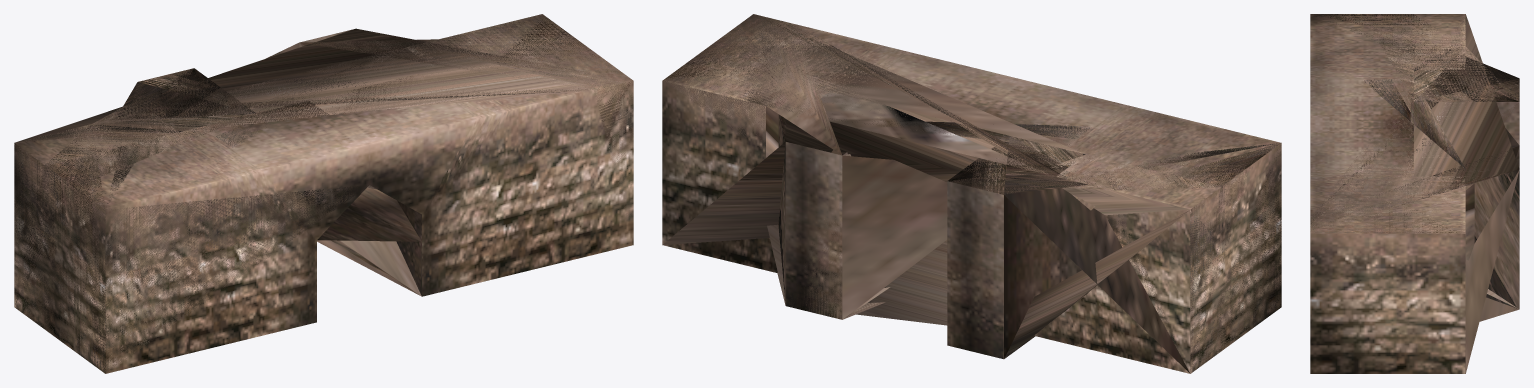
The model's file is stbr15.dae.
3 renders of one model, left to right at view 1: azimuth 30°, elevation 25°; view 2: azimuth 150°, elevation 25°; view 3: azimuth 270°, elevation 25°, orthographic. The views are drawn at different scales.
Parts seen in each view (by area): view 1: base, lever, holder, door; view 2: base, holder, lever, door; view 3: base, lever, door, holder.
Part boxes in pixels (x1,y1,x2,y2): base: [14, 14, 633, 373]; lever: [14, 28, 630, 372]; holder: [14, 14, 633, 372]; door: [45, 43, 625, 372]; base: [662, 14, 1281, 373]; holder: [663, 14, 1281, 372]; lever: [663, 15, 1280, 369]; door: [756, 15, 1281, 372]; base: [1310, 14, 1519, 373]; lever: [1310, 14, 1519, 308]; door: [1310, 14, 1519, 321]; holder: [1310, 16, 1519, 373].
Bounding box in the file's own units: 10.03 × 4.04 × 2.98.
Materials: 1 (1 with a texture image).
